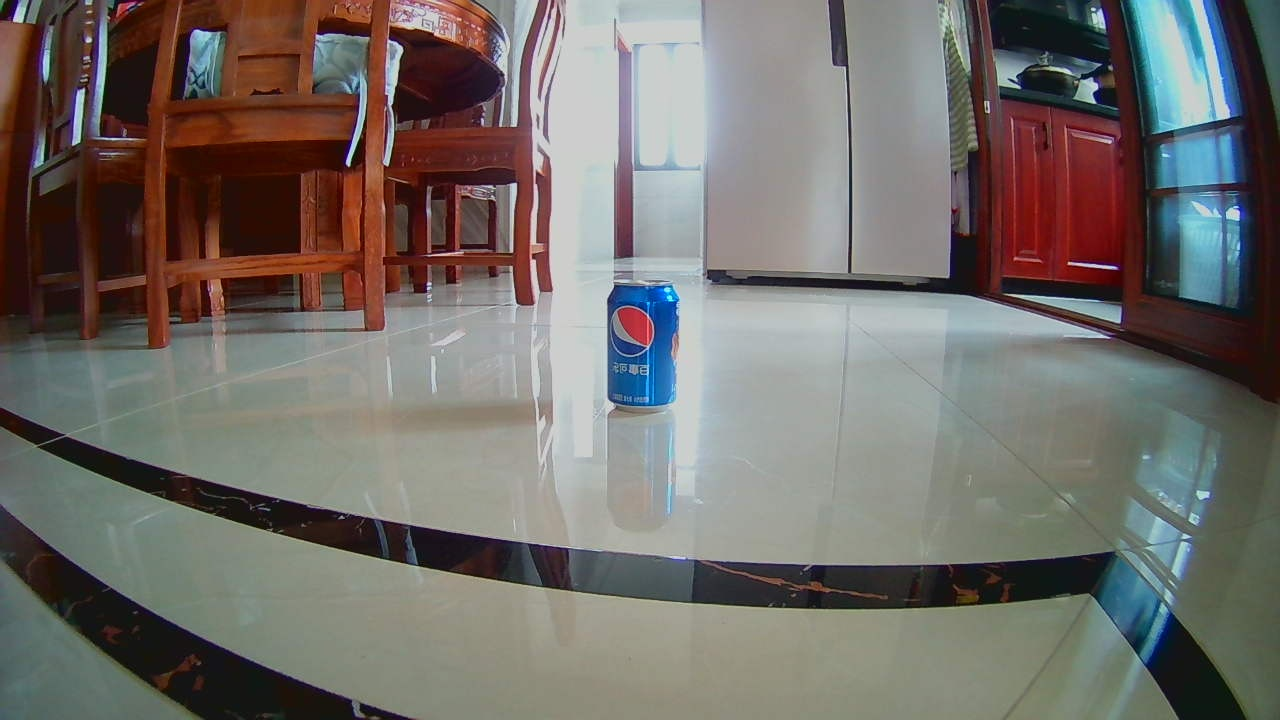pessi: (607, 278, 682, 412)
